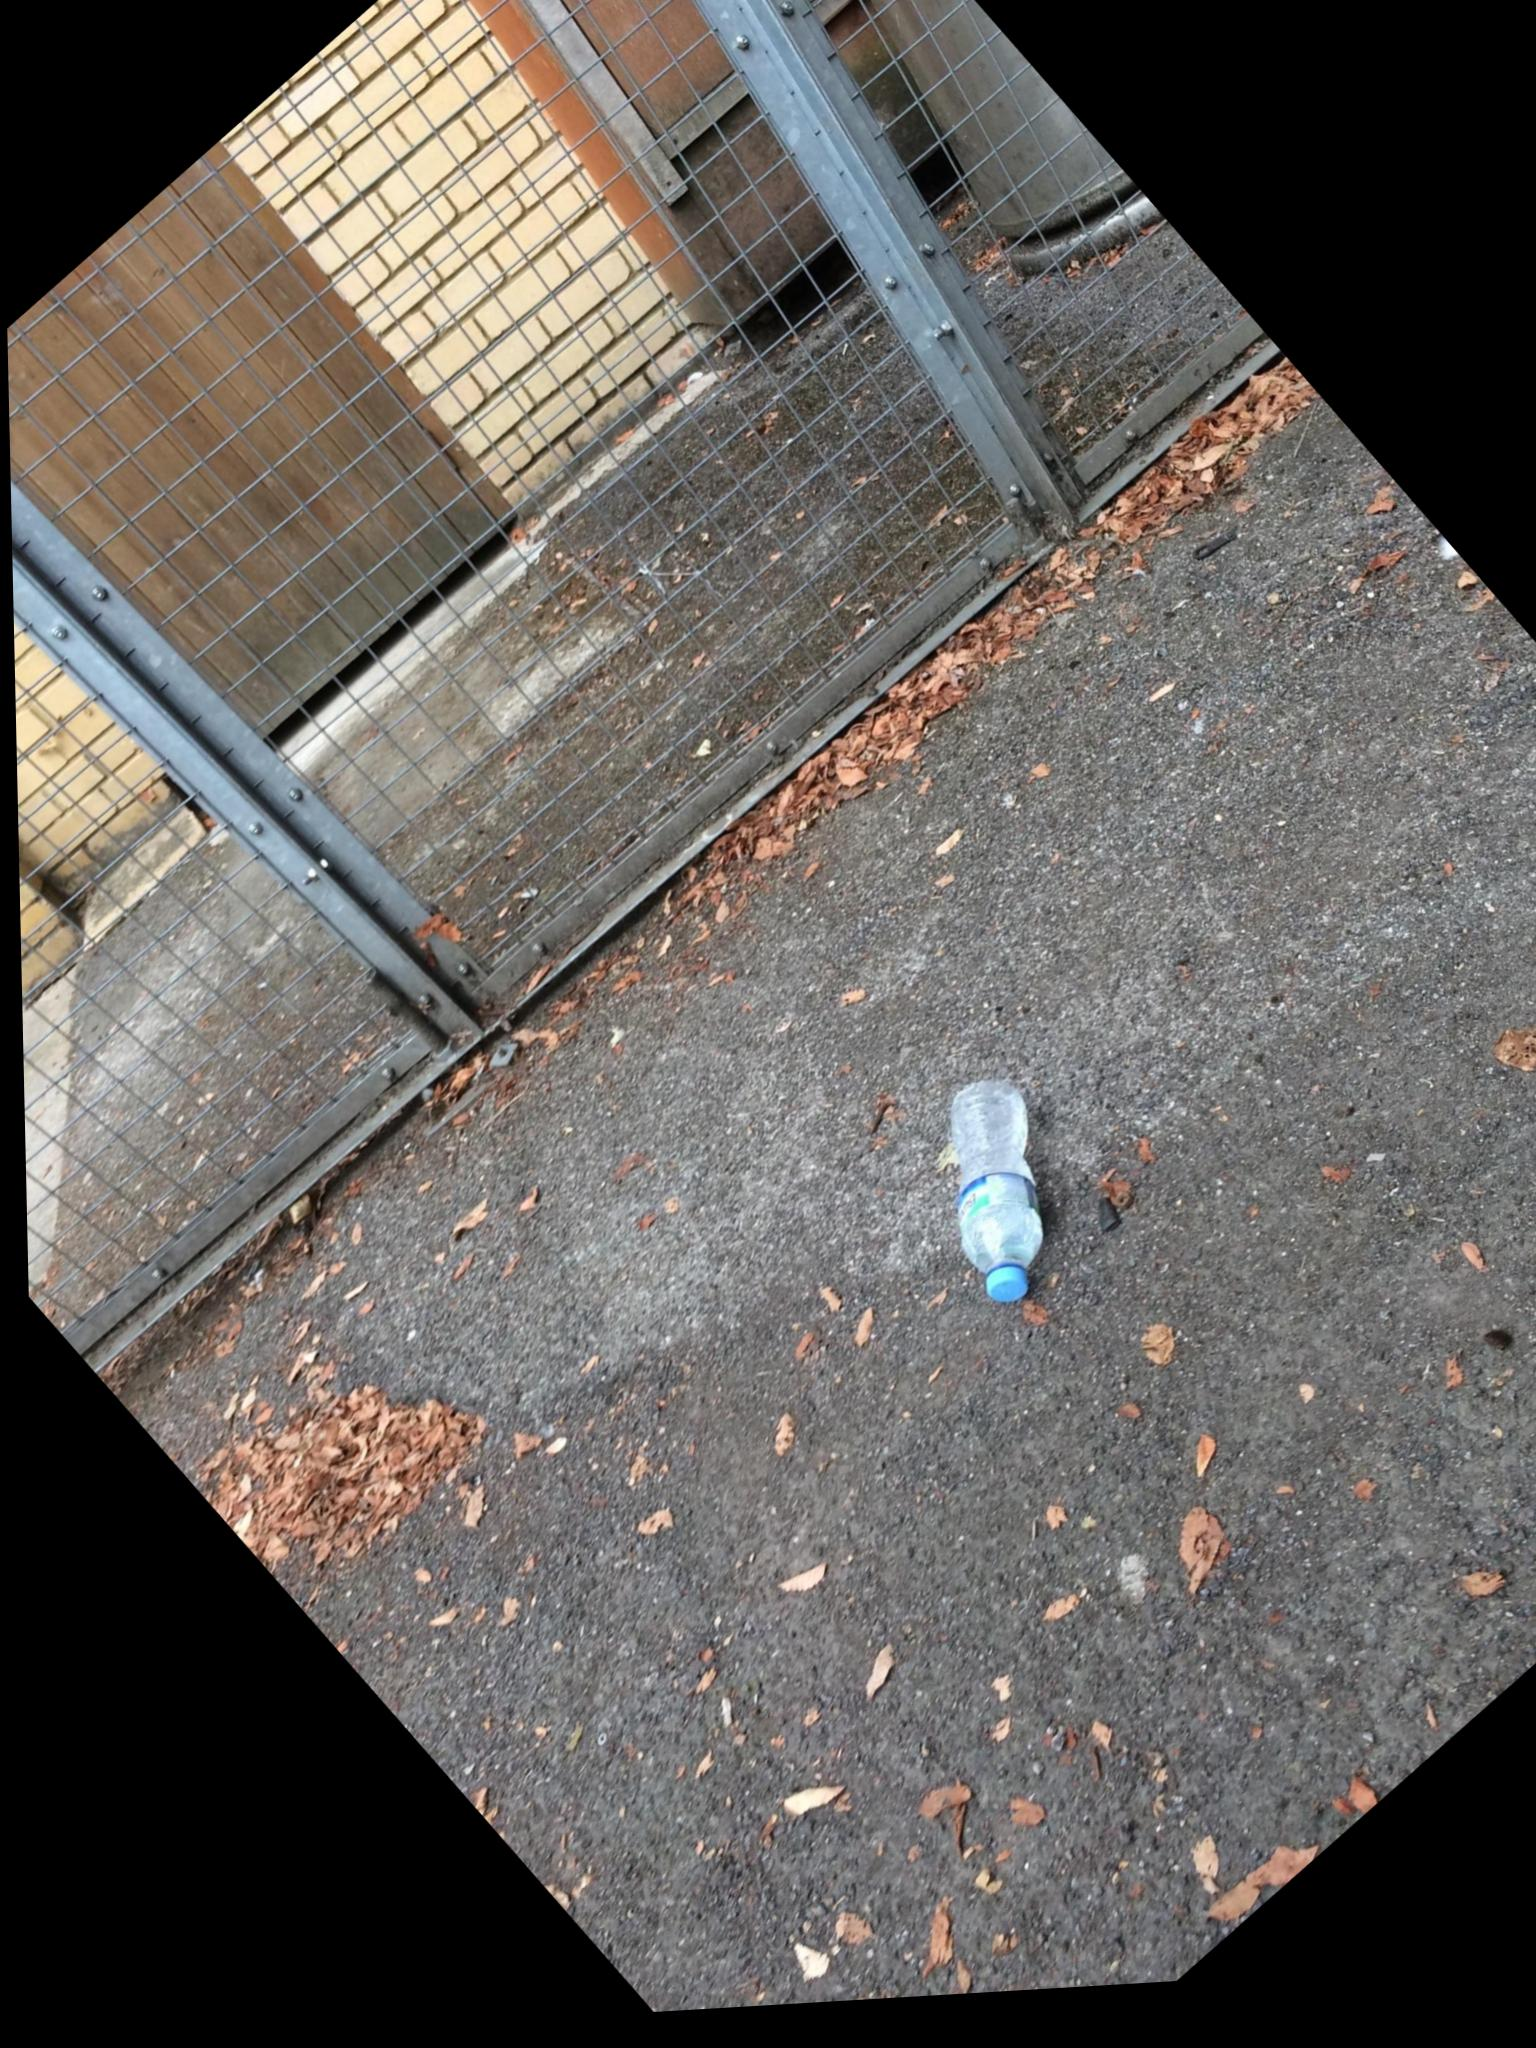plastic: (942, 1080, 1149, 1317)
